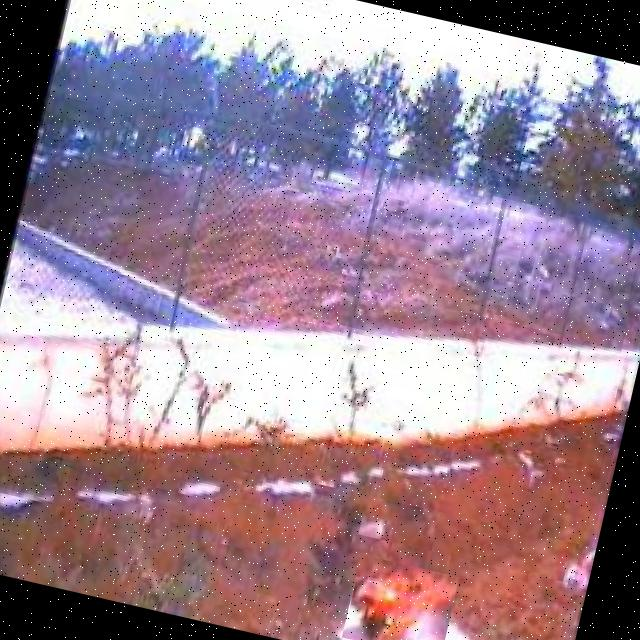fire: (341, 554, 459, 640)
